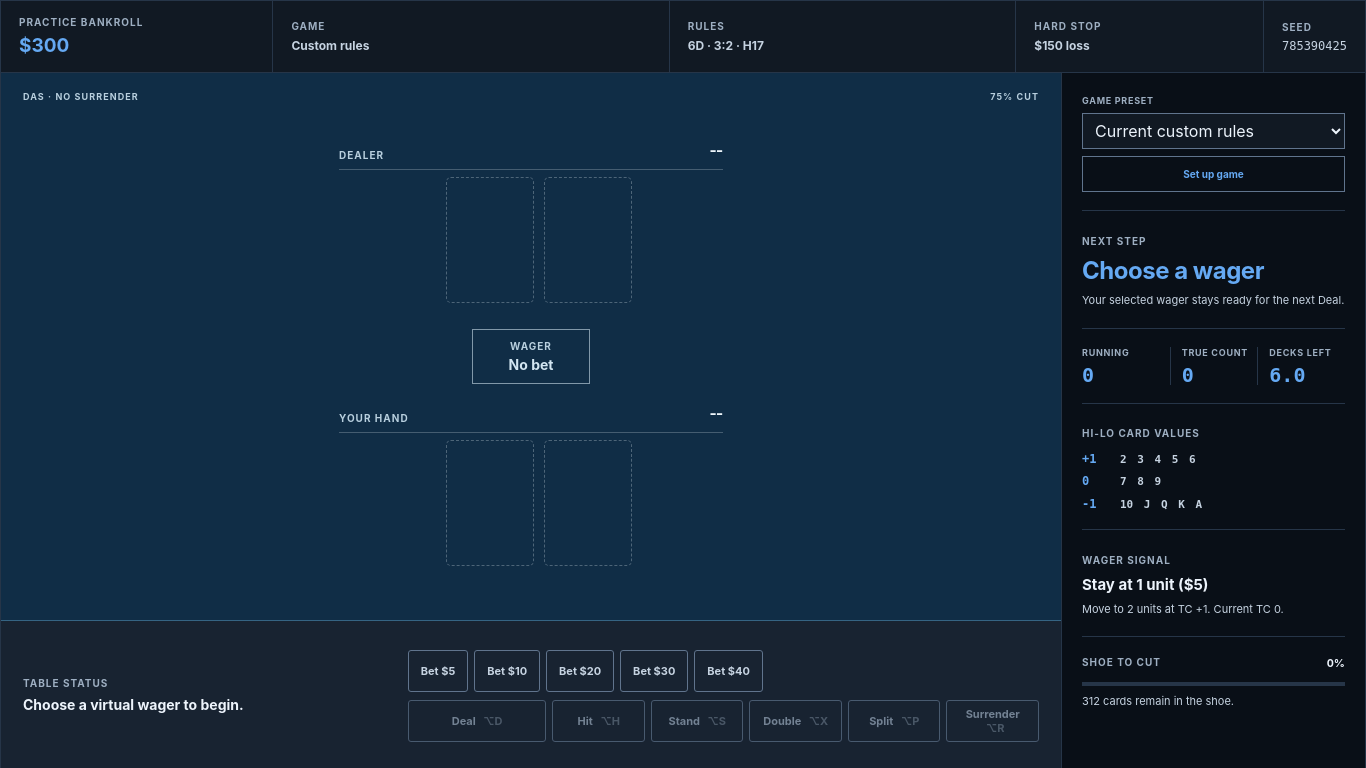
Test case: BlackjackTable › deals a deterministic hand and exposes only legal actions
Click the button "Bet $20" at (580, 671), box [546,650,614,692]
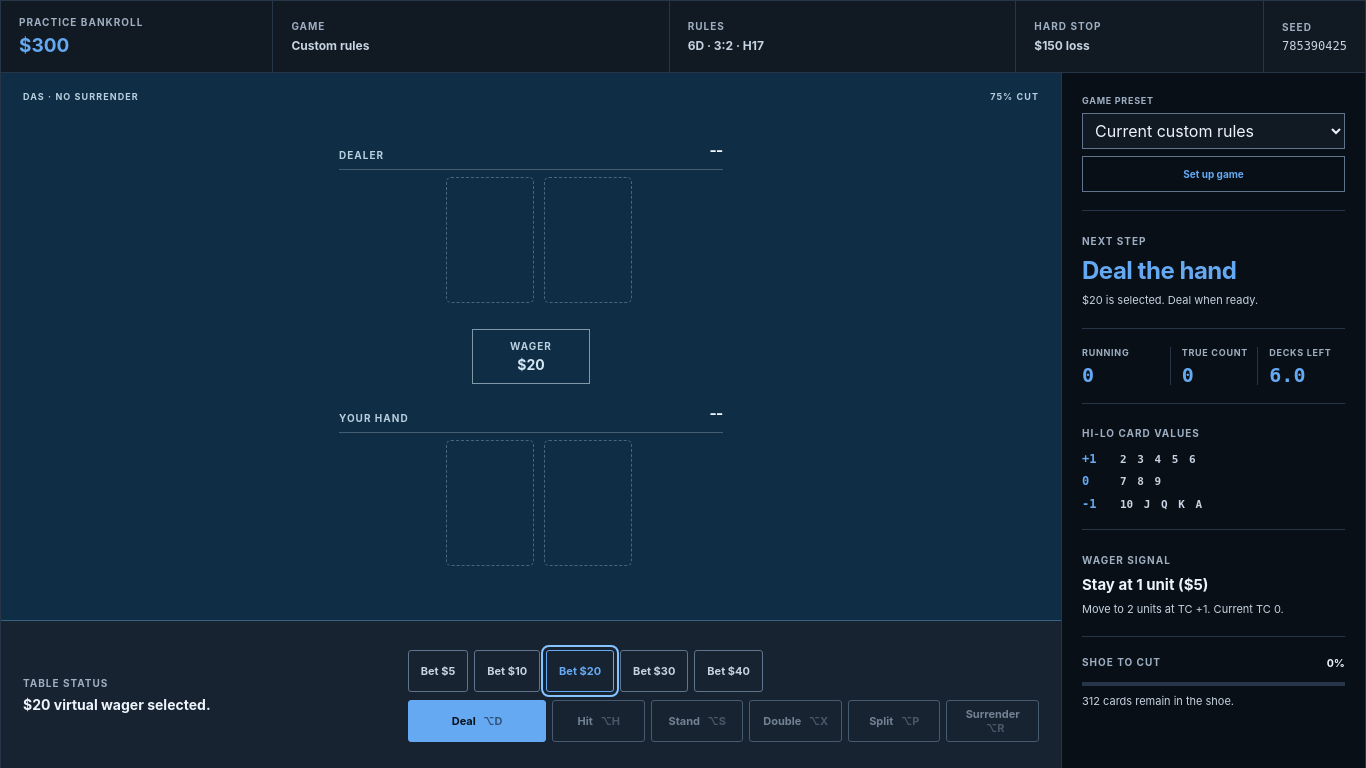
Click the button "Deal ⌥D" at (477, 721), box [408,700,546,742]
(page scrolled)
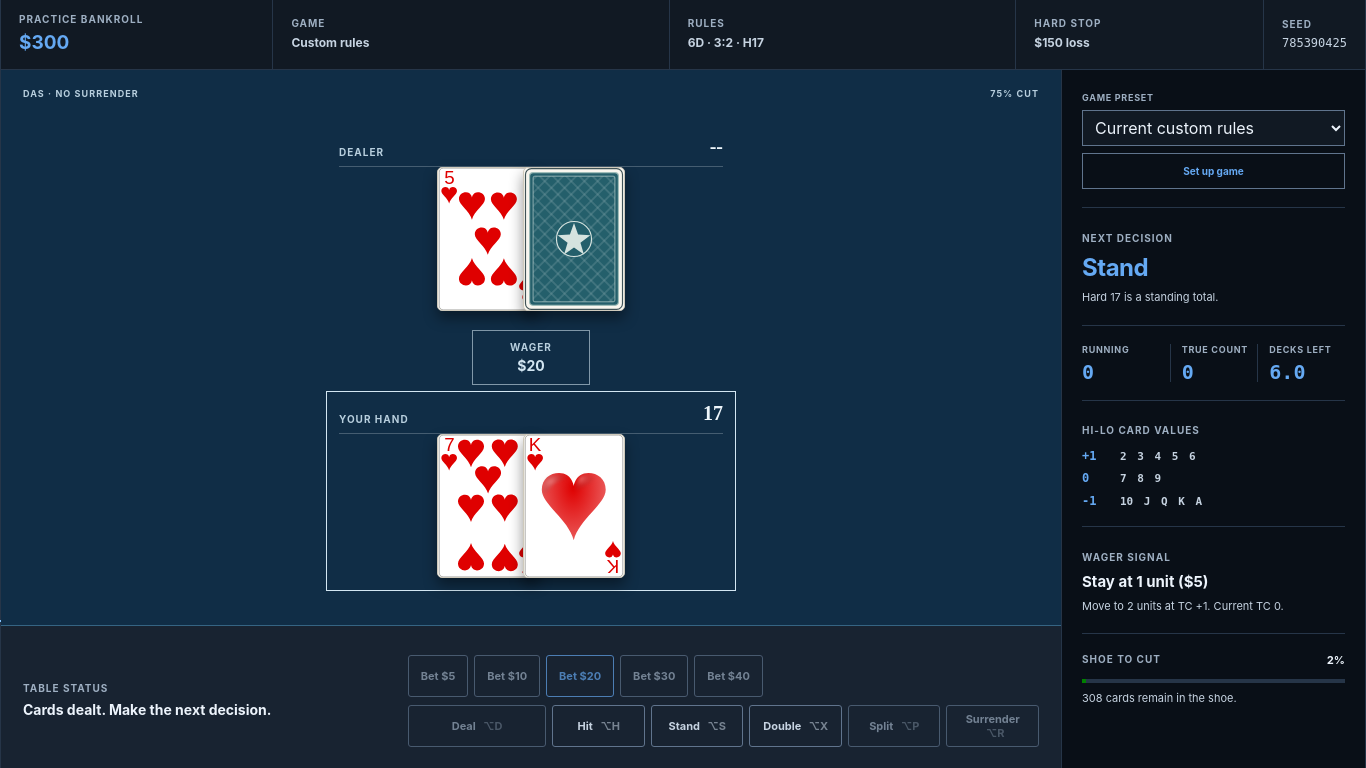
Expected: the number of elements with test id "player-card" is 2, [437,434,539,578]; [523,434,625,578]
Expected: the element with test id "dealer-hole-card" is shown, [523,167,625,311]
Expected: the button "Hit ⌥H" is enabled, [552,705,645,747]
